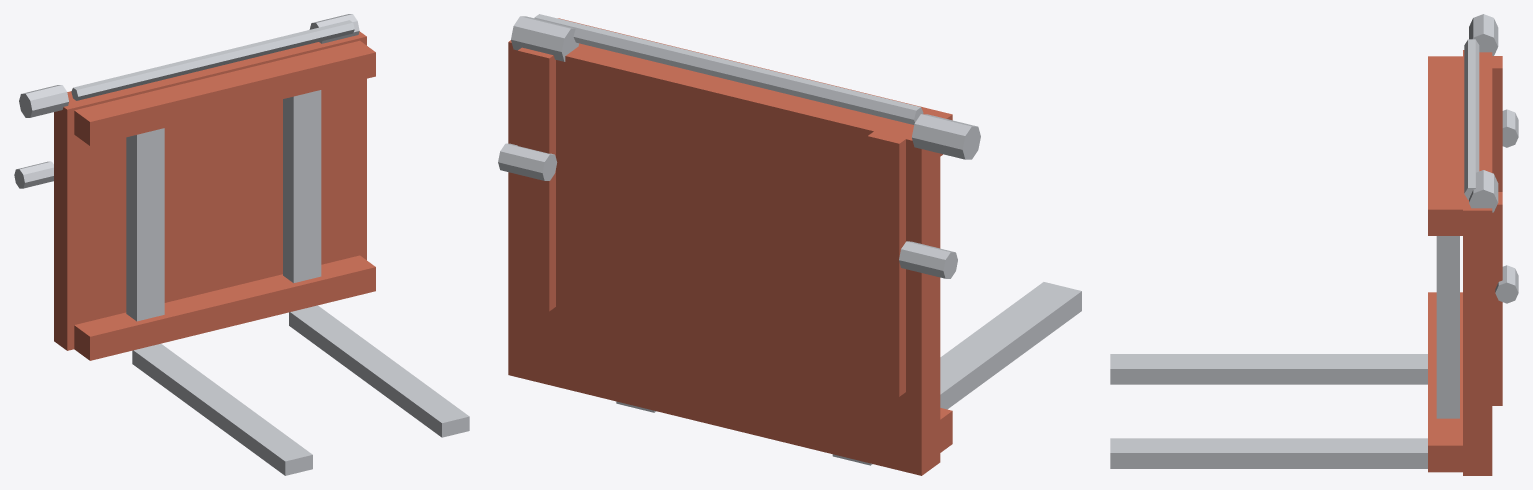
Rendered from arable-fields-and-farm-machinery-pallet-forks-7894a7ef__16868.glb.
3 renders of one model, left to right at view 1: azimuth 30°, elevation 25°; view 2: azimuth 150°, elevation 25°; view 3: azimuth 270°, elevation 25°, orthographic. The views are drawn at different scales.
Parts seen in each view (by area): view 1: pallet-forks; view 2: pallet-forks; view 3: pallet-forks.
Boxes of the visible parts, box(x1,y1,x2,y2) form: pallet-forks: box(14, 14, 469, 475); pallet-forks: box(498, 14, 1081, 475); pallet-forks: box(1110, 14, 1518, 475).
Size of the model in its own units: 1.44 by 1.16 by 1.4.
